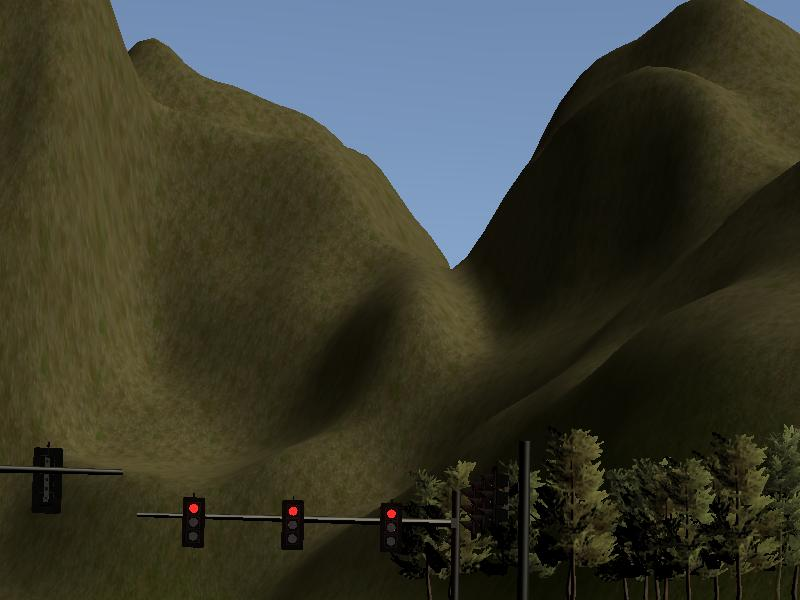red: (183, 497, 206, 549), (282, 499, 305, 551), (381, 503, 404, 555)
